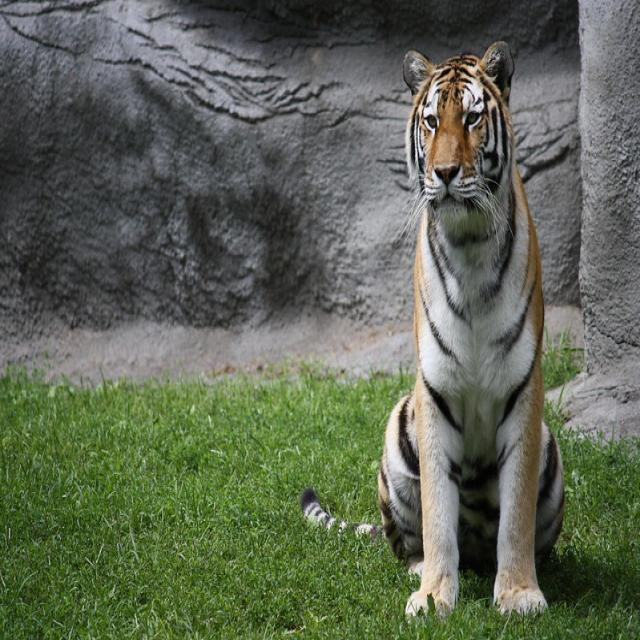Tiger: (301, 41, 565, 623)
